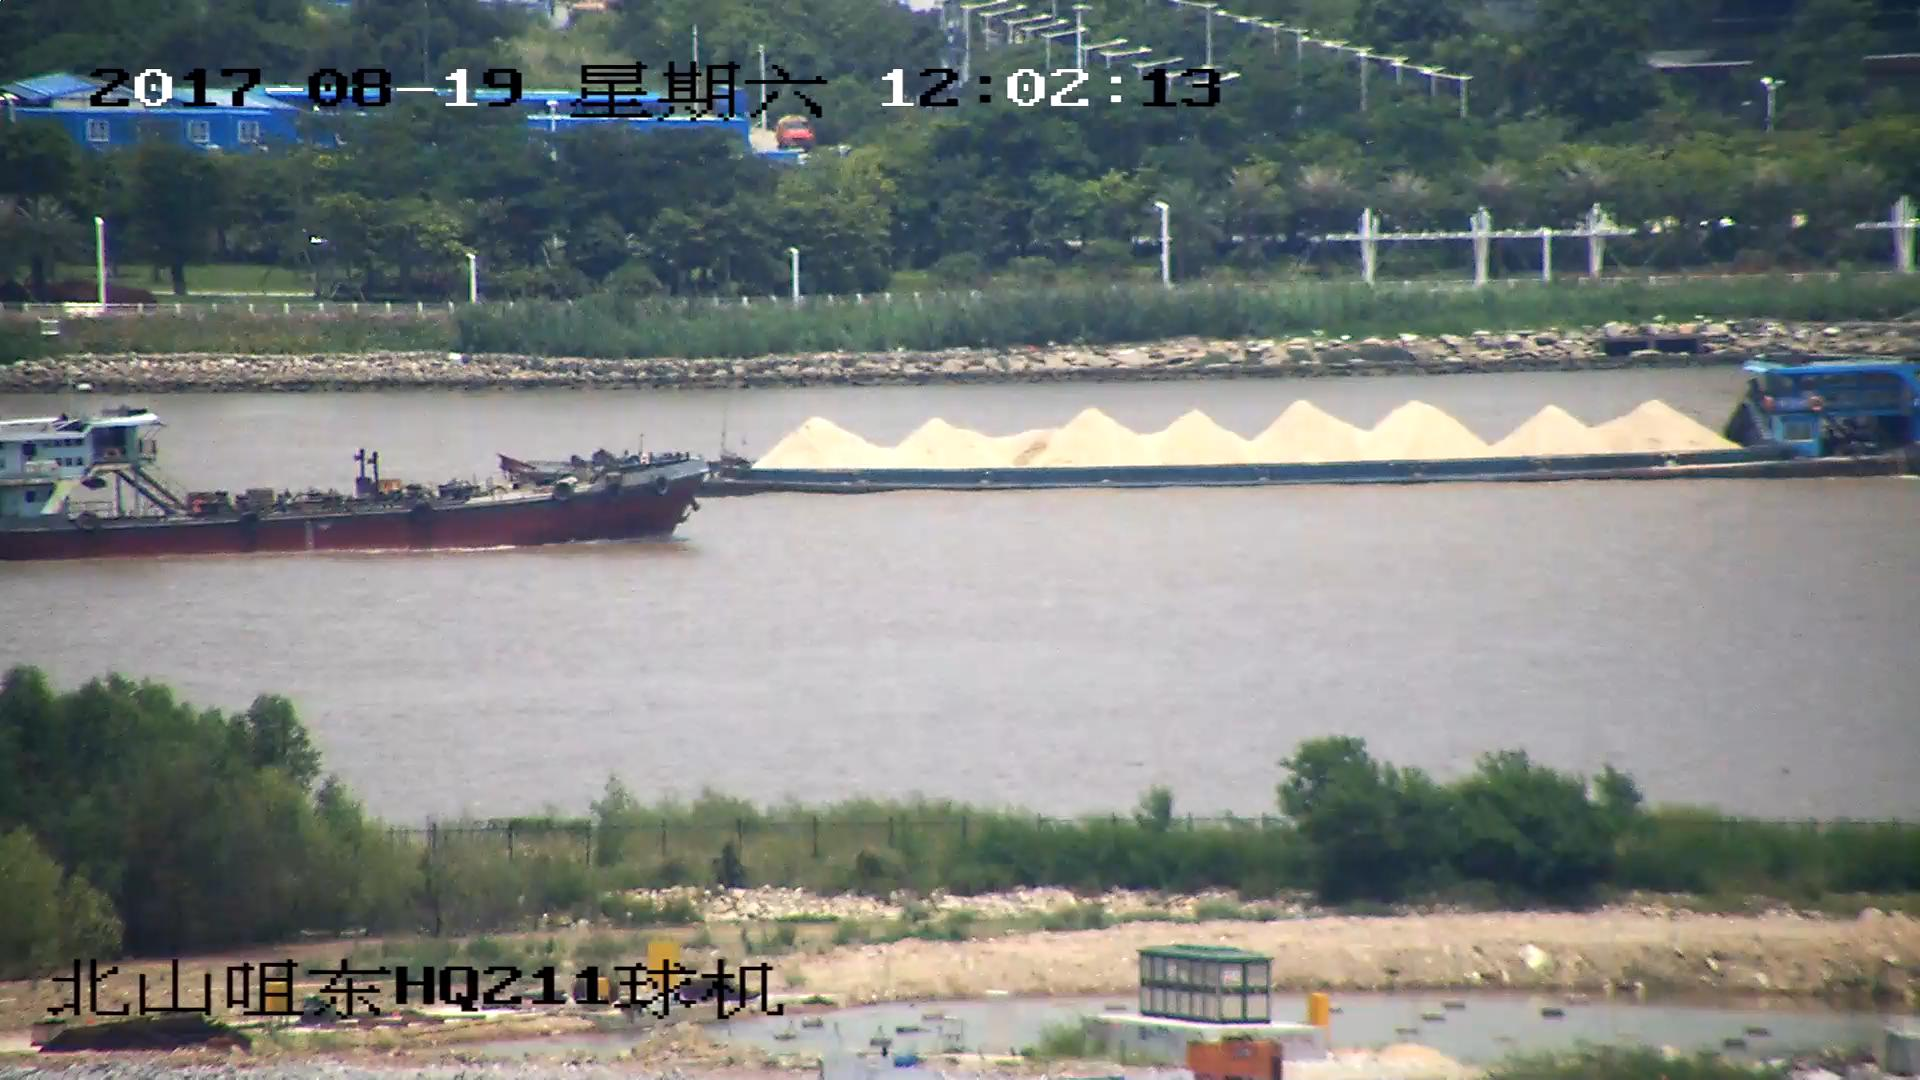bulk cargo carrier: (1, 405, 708, 563)
ore carrier: (496, 356, 1920, 491)
